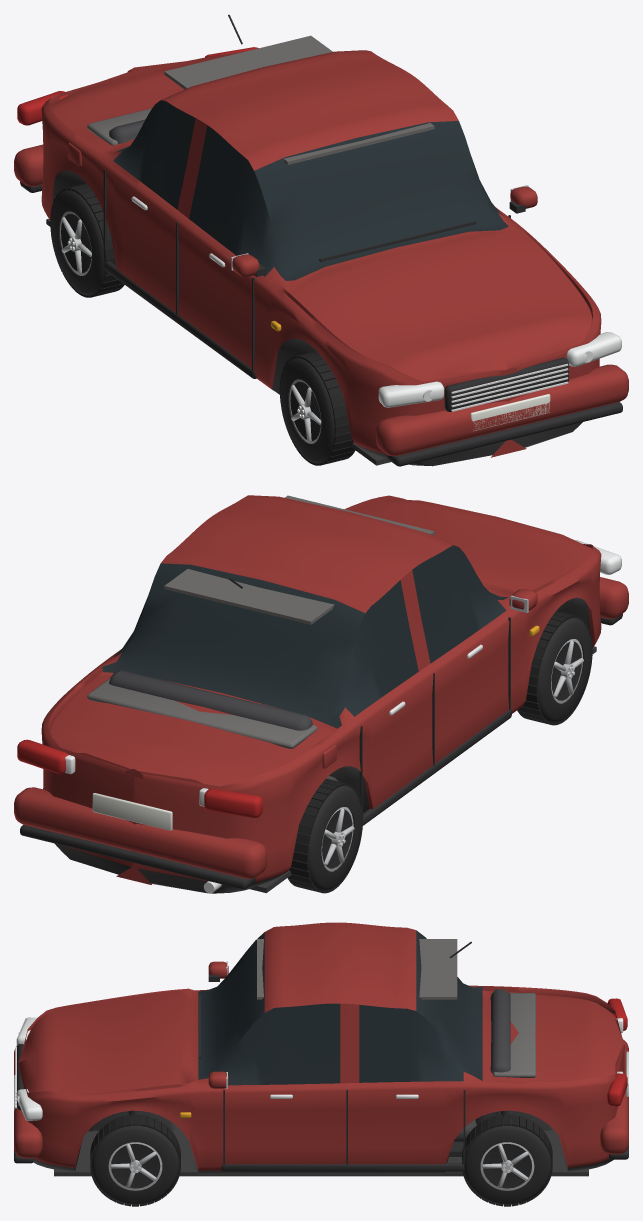
File: hero-car.glb
The picture shows the model from 3 angles, top to bottom: view 1: azimuth 30°, elevation 25°; view 2: azimuth 150°, elevation 25°; view 3: azimuth 270°, elevation 25°; orthographic projection. The views are drawn at different scales.
Visible parts, largest first — view 1: body, wheel_fr, wheel_rr; view 2: body, wheel_rr, wheel_fr; view 3: body, wheel_fl, wheel_rl.
Boxes of the visible parts, left/top/right/bottom form: body: left=14, top=14, right=628, bottom=466; wheel_fr: left=279, top=351, right=355, bottom=465; wheel_rr: left=50, top=183, right=124, bottom=297; body: left=14, top=495, right=628, bottom=893; wheel_rr: left=287, top=778, right=363, bottom=893; wheel_fr: left=517, top=611, right=592, bottom=725; body: left=14, top=922, right=628, bottom=1176; wheel_fl: left=90, top=1114, right=180, bottom=1206; wheel_rl: left=462, top=1114, right=552, bottom=1206.
Bounding box in the file's own units: 1.95 × 1.65 × 4.3.
